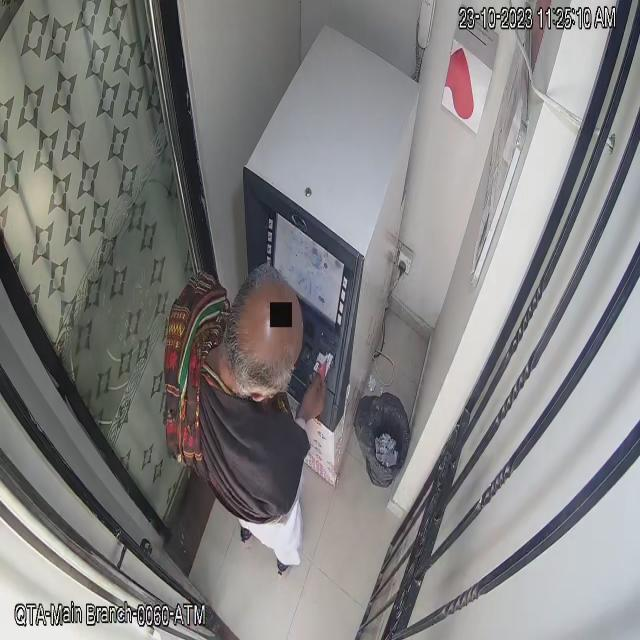atm-card: (310, 342, 339, 382)
